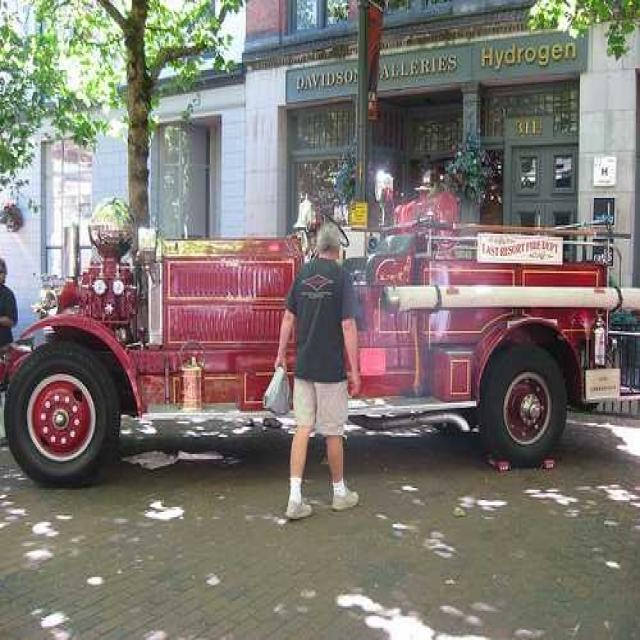ambulance: (24, 167, 637, 477)
